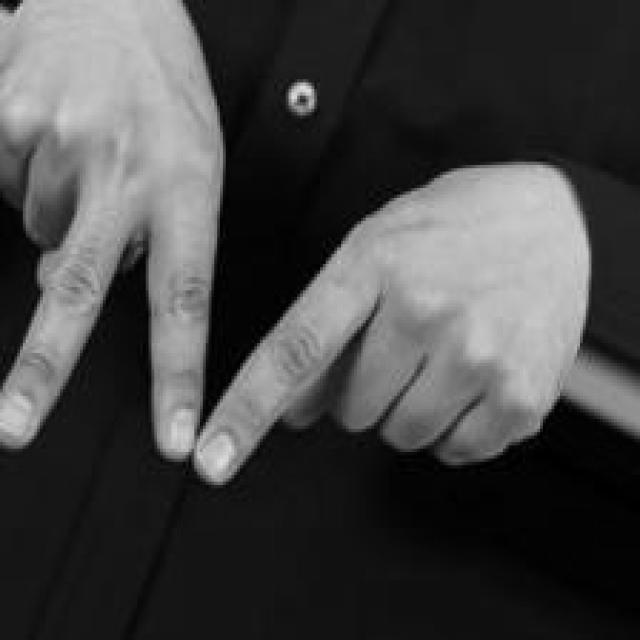N: (2, 0, 585, 496)
